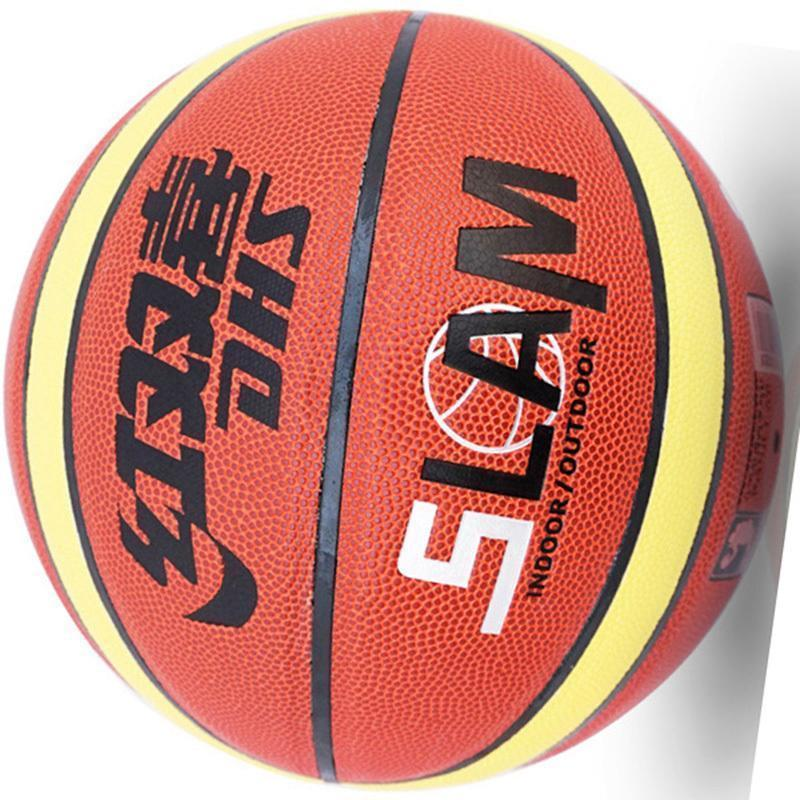ball: (5, 13, 782, 784)
